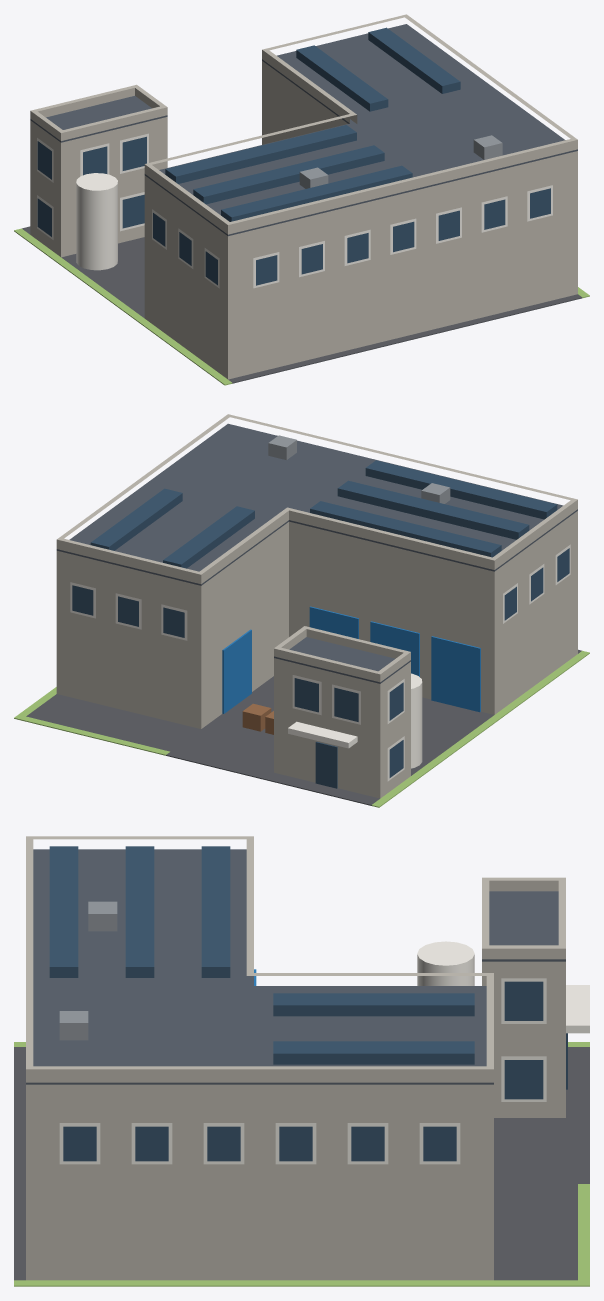
3 views of the same model, one above another, from view 1: azimuth 30°, elevation 25°; view 2: azimuth 150°, elevation 25°; view 3: azimuth 270°, elevation 25° (orthographic). The views are drawn at different scales.
Parts seen in each view (by area): view 1: wall, roof (×2), roof_light (×5), parapet (×3), office, window_glass (×10), asphalt, tank, lawn, ac_unit (×2); view 2: wall, roof (×2), roof_light (×5), asphalt (×2), parapet (×3), office, garage_door (×4), window_glass (×5), lawn (×2), tank, door, canopy (+2 smaller); view 3: wall, roof (×2), roof_light (×5), asphalt (×2), parapet (×5), window_glass (×8), office, window_frame (×8), lawn (×2), tank, ac_unit (×2), canopy.
Boxes of the visible parts, bbox=[...] form: wall: bbox=[144, 61, 577, 379]; roof (×2): bbox=[30, 24, 577, 236]; roof_light (×5): bbox=[165, 27, 460, 221]; parapet (×3): bbox=[30, 14, 577, 234]; office: bbox=[30, 117, 167, 257]; window_glass (×10): bbox=[83, 136, 550, 285]; asphalt: bbox=[26, 231, 582, 383]; tank: bbox=[76, 173, 117, 270]; lawn: bbox=[14, 228, 232, 385]; ac_unit (×2): bbox=[299, 135, 502, 188]; wall: bbox=[56, 511, 577, 728]; roof (×2): bbox=[56, 423, 577, 683]; roof_light (×5): bbox=[90, 460, 557, 568]; asphalt (×2): bbox=[26, 649, 581, 805]; parapet (×3): bbox=[56, 414, 577, 682]; office: bbox=[274, 658, 410, 798]; garage_door (×4): bbox=[222, 606, 480, 713]; window_glass (×5): bbox=[72, 585, 358, 721]; lawn (×2): bbox=[21, 651, 589, 807]; tank: bbox=[411, 673, 422, 768]; door: bbox=[315, 741, 337, 788]; canopy: bbox=[288, 721, 357, 748]; wall: bbox=[26, 1084, 493, 1280]; roof (×2): bbox=[26, 849, 565, 1084]; roof_light (×5): bbox=[49, 846, 474, 1064]; asphalt (×2): bbox=[14, 1047, 589, 1280]; parapet (×5): bbox=[26, 836, 565, 1082]; window_glass (×8): bbox=[63, 981, 543, 1161]; office: bbox=[482, 961, 565, 1117]; window_frame (×8): bbox=[59, 978, 546, 1164]; lawn (×2): bbox=[14, 1184, 589, 1286]; tank: bbox=[417, 941, 474, 985]; ac_unit (×2): bbox=[59, 901, 117, 1040]; canopy: bbox=[566, 985, 589, 1033].
Size of the model in its own units: 24 by 9.96 by 24.
